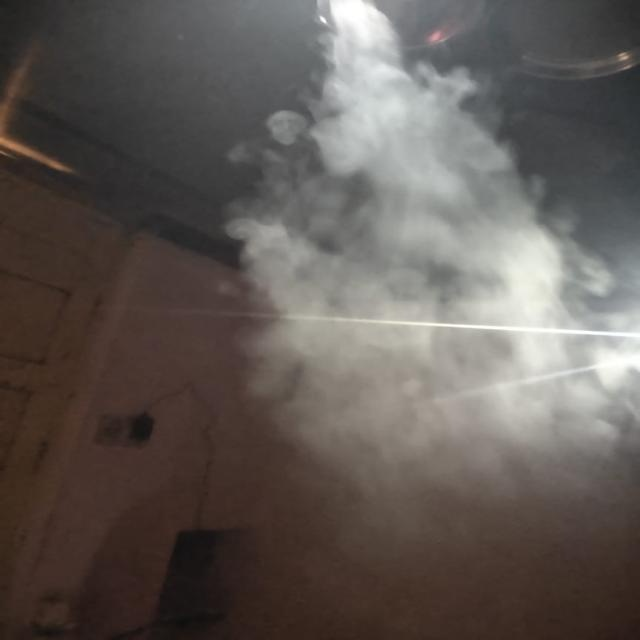smoke: (371, 145, 592, 459)
